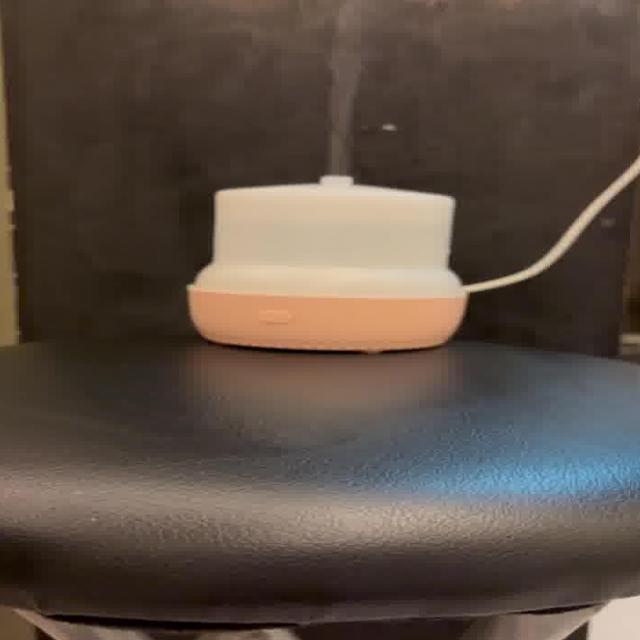fire: (321, 0, 362, 173)
